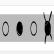correct: (16, 20, 23, 38)
no answer: (2, 19, 10, 39), (30, 20, 38, 38)
not correct: (43, 11, 53, 45)
